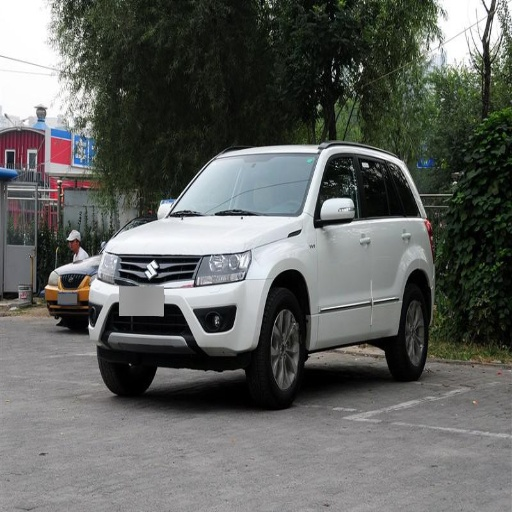front_bumper: (50, 251, 271, 355)
front_glass: (166, 156, 317, 215)
front_left_door: (314, 149, 371, 339)
